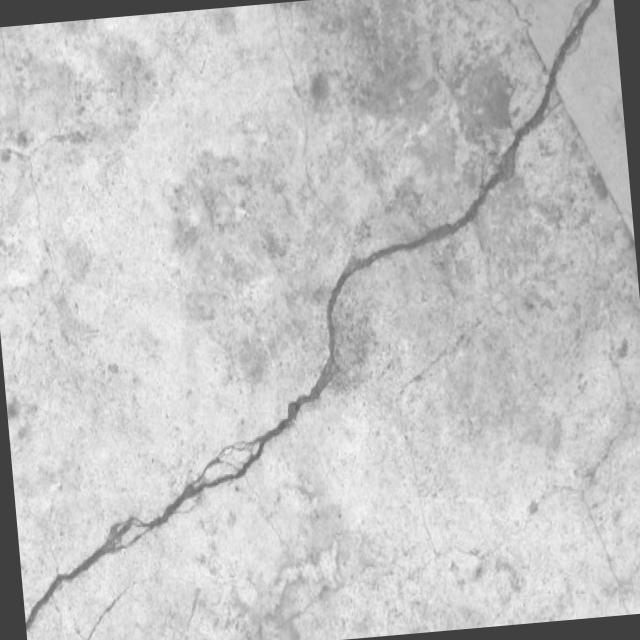crack: (265, 0, 640, 410), (8, 394, 320, 640)
